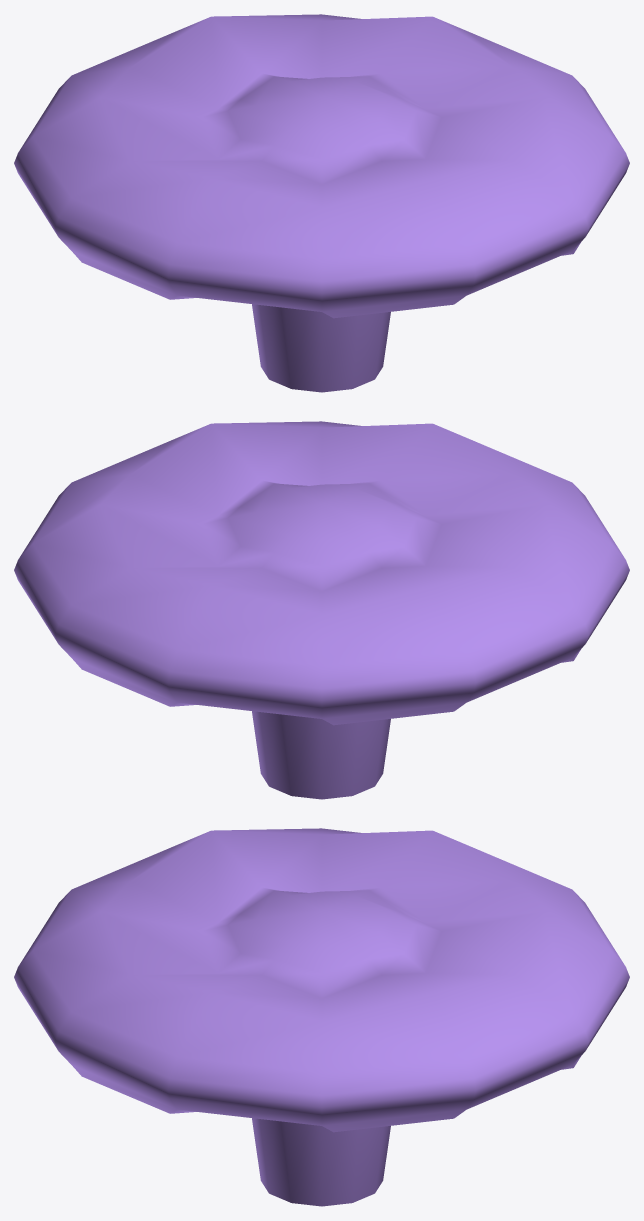
File: MEC0110012.fbx
3 views of the same model, one above another, from view 1: azimuth 30°, elevation 25°; view 2: azimuth 150°, elevation 25°; view 3: azimuth 270°, elevation 25° (orthographic).
Visible parts, largest first — view 1: smMEC0110012; view 2: smMEC0110012; view 3: smMEC0110012.
Part boxes in pixels (x1,y1,x2,y2): smMEC0110012: [14, 14, 629, 392]; smMEC0110012: [14, 421, 629, 799]; smMEC0110012: [14, 828, 629, 1206].
Size of the model in its own units: 122 by 59.06 by 122.
Materials: 1 (1 with a texture image).
